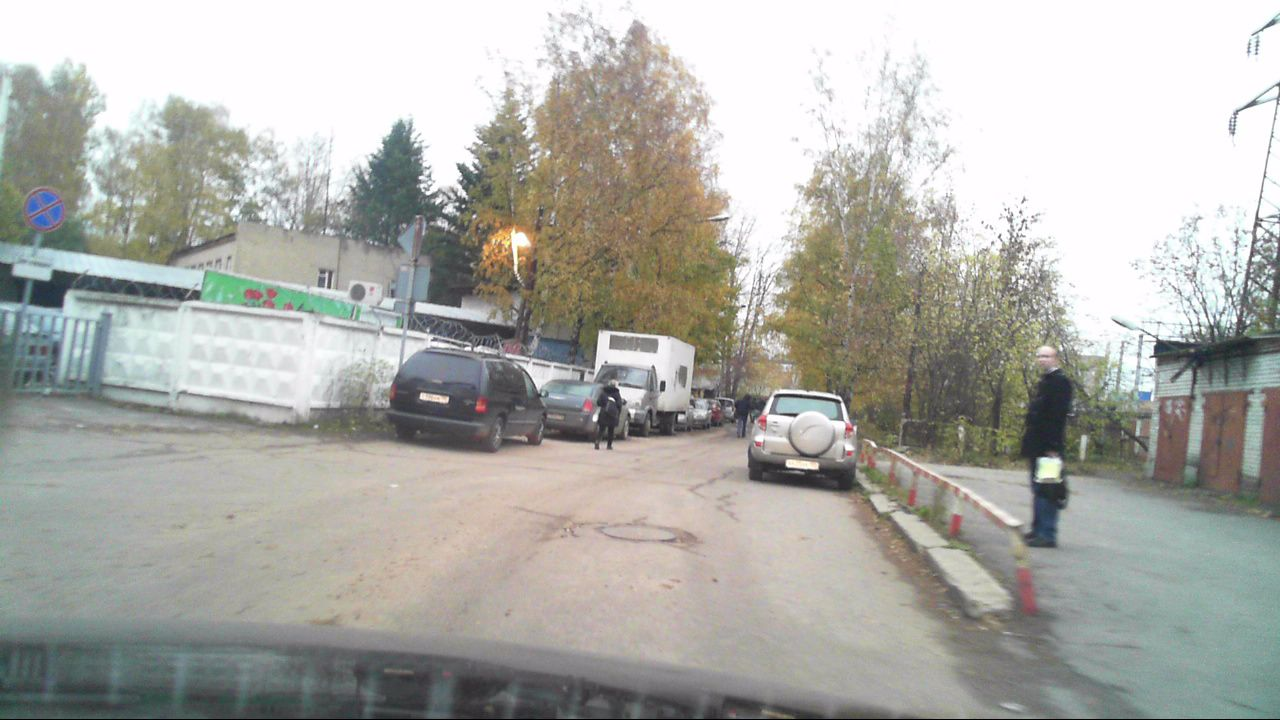No Parking: (23, 188, 64, 234)
